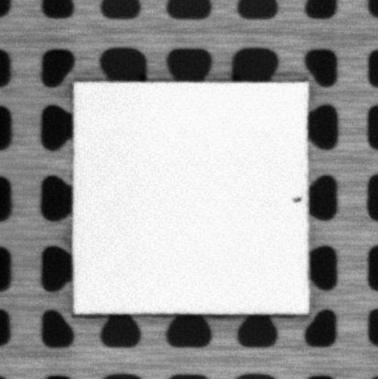DIE_INK: (290, 194, 304, 204)
